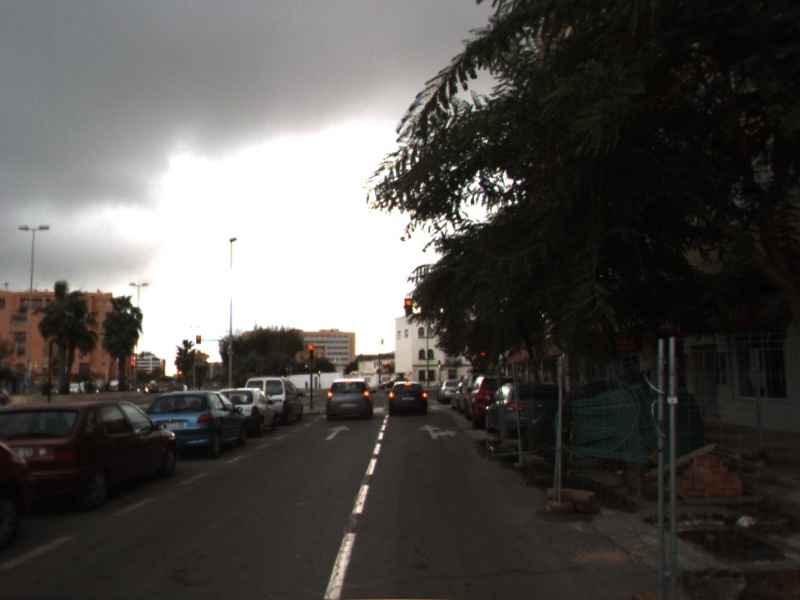STRAIGHT: (323, 423, 351, 441)
STRAIGHT_RIGHT: (417, 422, 459, 441)
